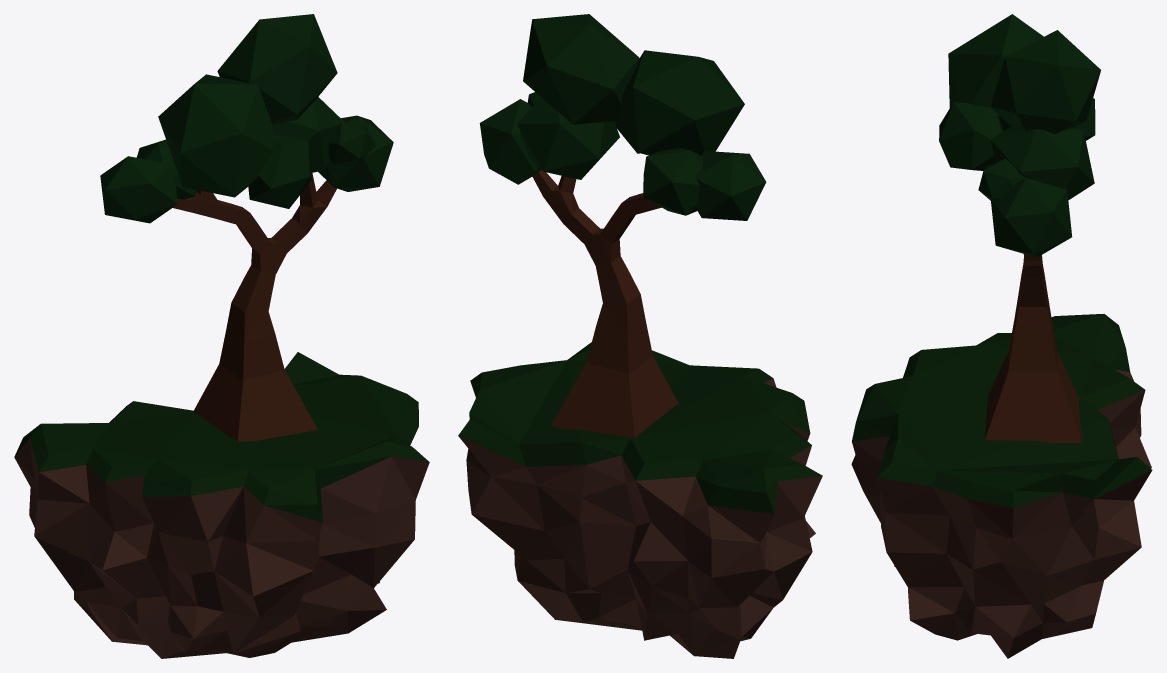
File: appleTreeIsland.obj
The picture shows the model from 3 angles, left to right: view 1: azimuth 30°, elevation 25°; view 2: azimuth 150°, elevation 25°; view 3: azimuth 270°, elevation 25°; orthographic projection. The views are drawn at different scales.
Parts seen in each view (by area): view 1: Island_Plane.001, Apple_tree_Cube.016, Icosphere.013_Icosphere.001, Icosphere.009_Icosphere.001, Icosphere.012_Icosphere.001, Icosphere.010_Icosphere.001, Icosphere.015_Icosphere.001, Icosphere.014_Icosphere.001, Icosphere.011_Icosphere.001, Icosphere.008_Icosphere.001; view 2: Island_Plane.001, Apple_tree_Cube.016, Icosphere.013_Icosphere.001, Icosphere.009_Icosphere.001, Icosphere.014_Icosphere.001, Icosphere.012_Icosphere.001, Icosphere.008_Icosphere.001, Icosphere.015_Icosphere.001; view 3: Island_Plane.001, Apple_tree_Cube.016, Icosphere.009_Icosphere.001, Icosphere.015_Icosphere.001, Icosphere.014_Icosphere.001, Icosphere.013_Icosphere.001, Icosphere.010_Icosphere.001, Icosphere.011_Icosphere.001.
Boxes of the visible parts, x1=… form: Island_Plane.001: x1=14, y1=352, x2=429, y2=658; Apple_tree_Cube.016: x1=173, y1=173, x2=336, y2=441; Icosphere.013_Icosphere.001: x1=158, y1=74, x2=277, y2=197; Icosphere.009_Icosphere.001: x1=217, y1=14, x2=337, y2=124; Icosphere.012_Icosphere.001: x1=100, y1=156, x2=177, y2=223; Icosphere.010_Icosphere.001: x1=248, y1=133, x2=311, y2=208; Icosphere.015_Icosphere.001: x1=318, y1=115, x2=393, y2=191; Icosphere.014_Icosphere.001: x1=272, y1=97, x2=343, y2=172; Icosphere.011_Icosphere.001: x1=328, y1=122, x2=375, y2=165; Icosphere.008_Icosphere.001: x1=136, y1=139, x2=196, y2=199; Island_Plane.001: x1=458, y1=342, x2=822, y2=658; Apple_tree_Cube.016: x1=532, y1=170, x2=678, y2=437; Icosphere.013_Icosphere.001: x1=616, y1=50, x2=744, y2=156; Icosphere.009_Icosphere.001: x1=523, y1=14, x2=639, y2=124; Icosphere.014_Icosphere.001: x1=517, y1=97, x2=619, y2=179; Icosphere.012_Icosphere.001: x1=696, y1=151, x2=766, y2=220; Icosphere.008_Icosphere.001: x1=643, y1=147, x2=703, y2=215; Icosphere.015_Icosphere.001: x1=479, y1=99, x2=541, y2=184; Island_Plane.001: x1=851, y1=314, x2=1152, y2=658; Apple_tree_Cube.016: x1=985, y1=254, x2=1081, y2=442; Icosphere.009_Icosphere.001: x1=990, y1=30, x2=1100, y2=134; Icosphere.015_Icosphere.001: x1=991, y1=178, x2=1072, y2=257; Icosphere.014_Icosphere.001: x1=990, y1=126, x2=1094, y2=200; Icosphere.013_Icosphere.001: x1=948, y1=14, x2=1043, y2=130; Icosphere.010_Icosphere.001: x1=939, y1=102, x2=1003, y2=170; Icosphere.011_Icosphere.001: x1=978, y1=158, x2=1025, y2=201.
Size of the model in its own units: 2.82 by 4.47 by 1.98.
